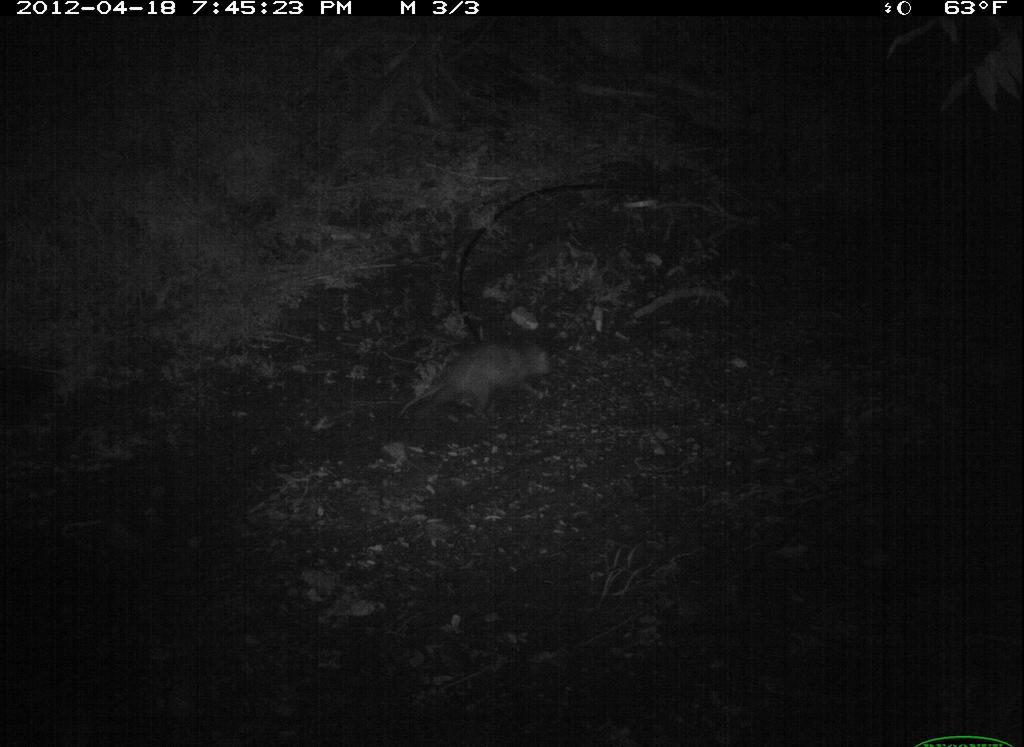opossum: (391, 314, 589, 432)
